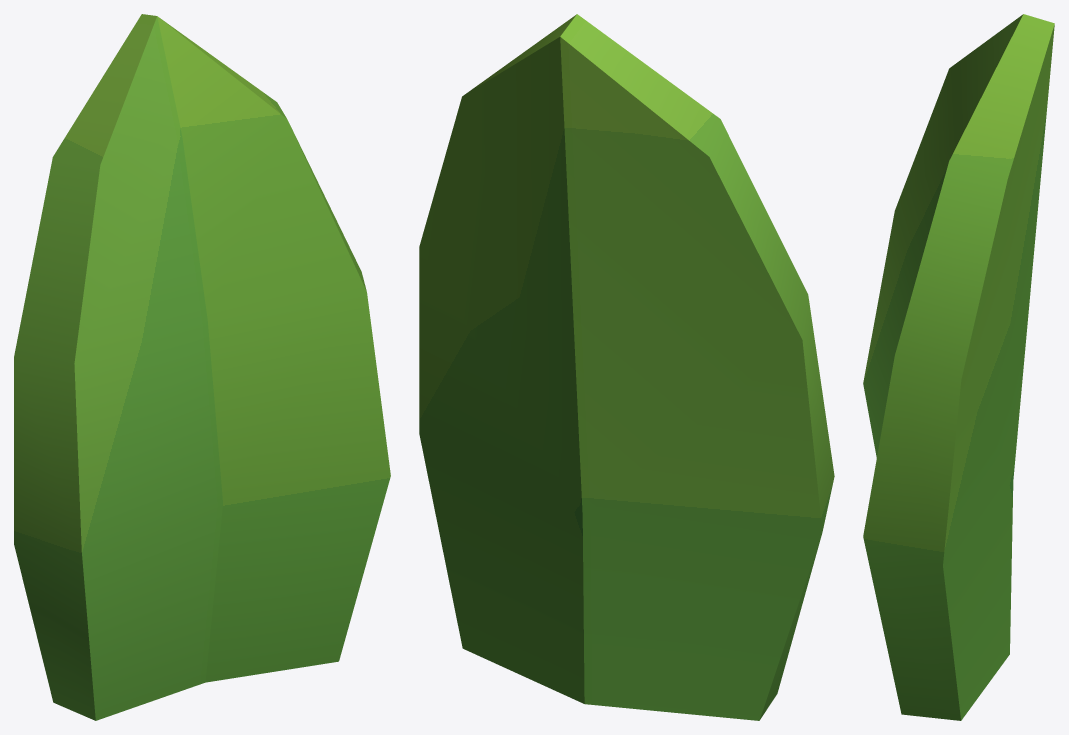
The model's file is Grass_1_A_Color1.glb.
The picture shows the model from 3 angles, left to right: view 1: azimuth 30°, elevation 25°; view 2: azimuth 150°, elevation 25°; view 3: azimuth 270°, elevation 25°; orthographic projection. The views are drawn at different scales.
Parts seen in each view (by area): view 1: Grass_1_A_Color1; view 2: Grass_1_A_Color1; view 3: Grass_1_A_Color1.
Boxes of the visible parts, <box> form: Grass_1_A_Color1: <box>14,14,390,720</box>; Grass_1_A_Color1: <box>419,14,834,720</box>; Grass_1_A_Color1: <box>863,14,1054,720</box>.
Bounding box in the file's own units: 0.3393 × 0.5593 × 0.1518.
Materials: 1 (1 with a texture image).
